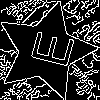E: (20, 25, 75, 70)
